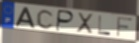A: (14, 7, 36, 29)
C: (36, 9, 55, 31)
F: (116, 16, 134, 38)
L: (97, 15, 112, 36)
P: (55, 9, 76, 33)
X: (76, 12, 94, 36)
